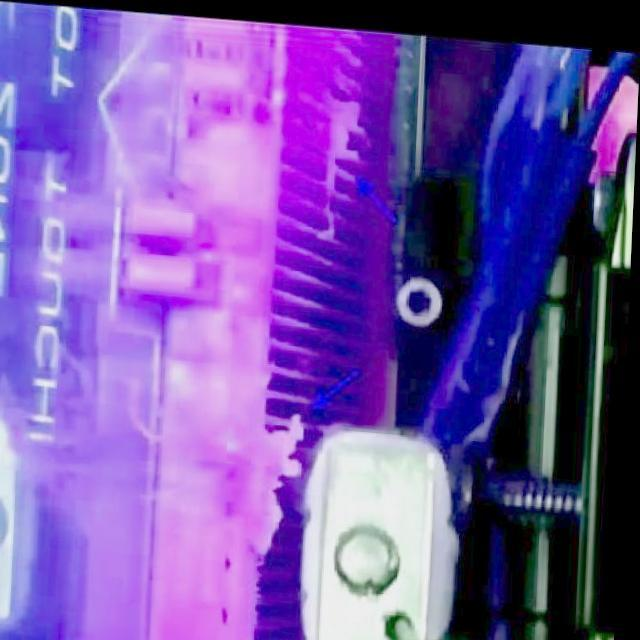spaghetti: (254, 403, 312, 552), (323, 95, 362, 236)
